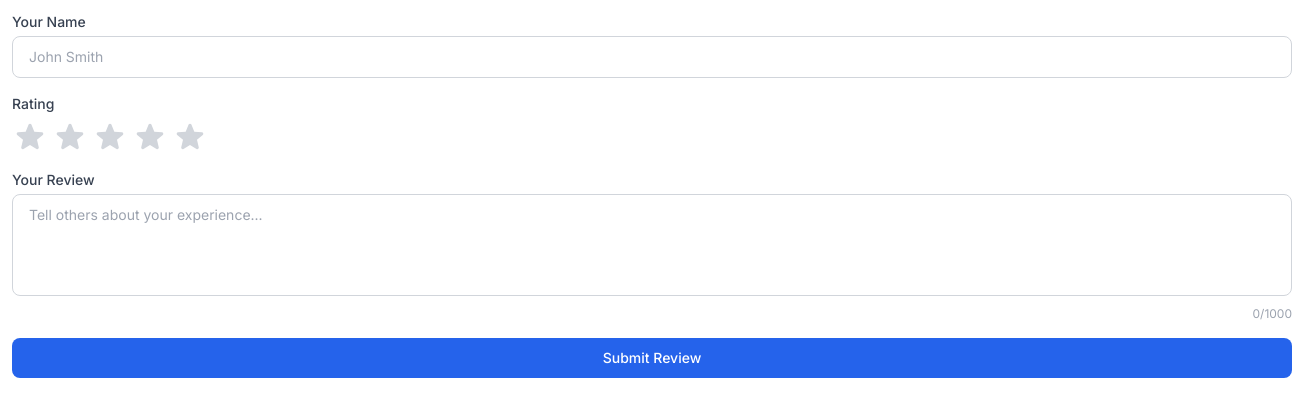
Test: TestimonialForm › updates character counter as user types
Type "Hello" into the text box labelled "Your Review" at (652, 245), box [12,194,1292,296]
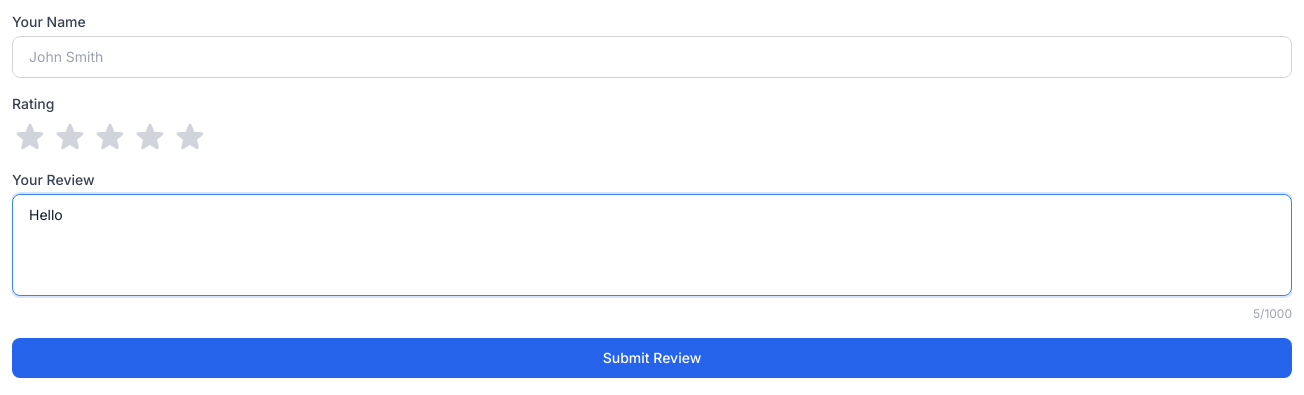
Expected: the text "5/1000" is shown, [1253,306,1292,322]
